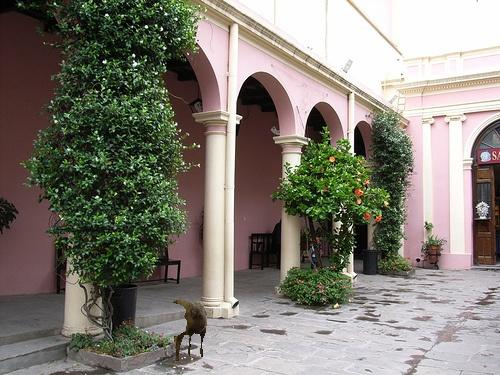tampered: (174, 300, 207, 361)
